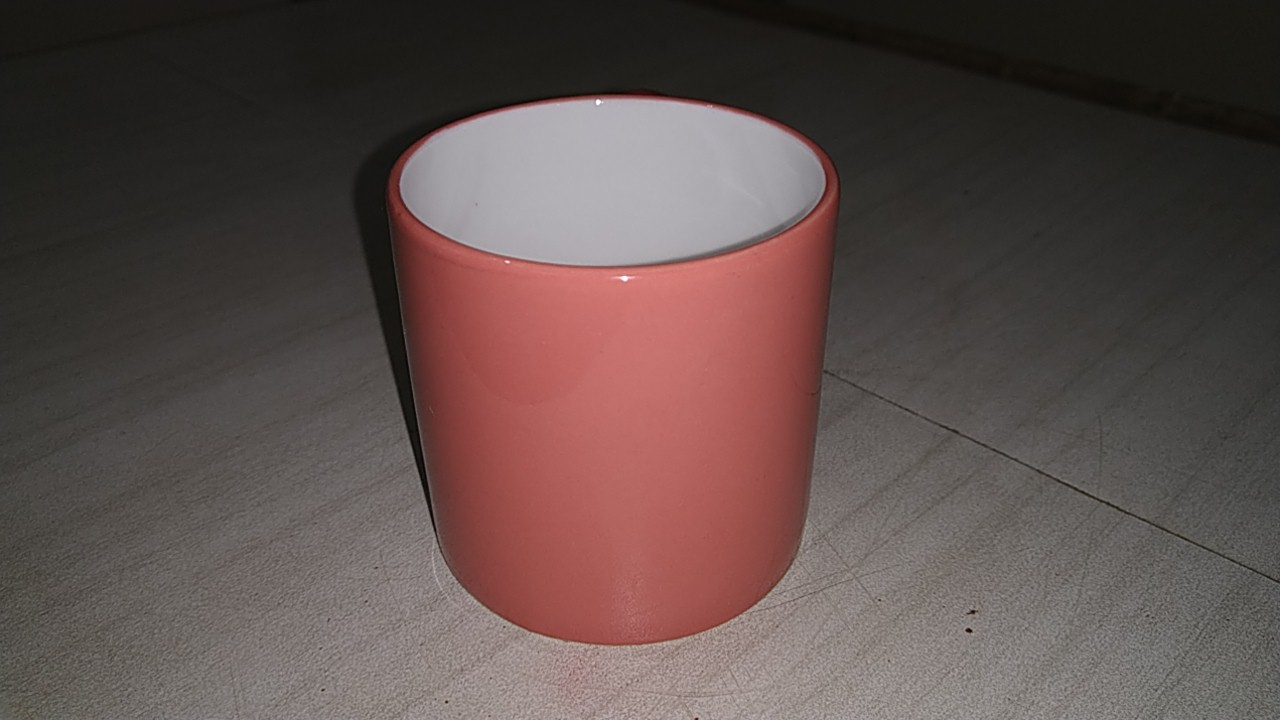cup: (360, 76, 861, 658)
